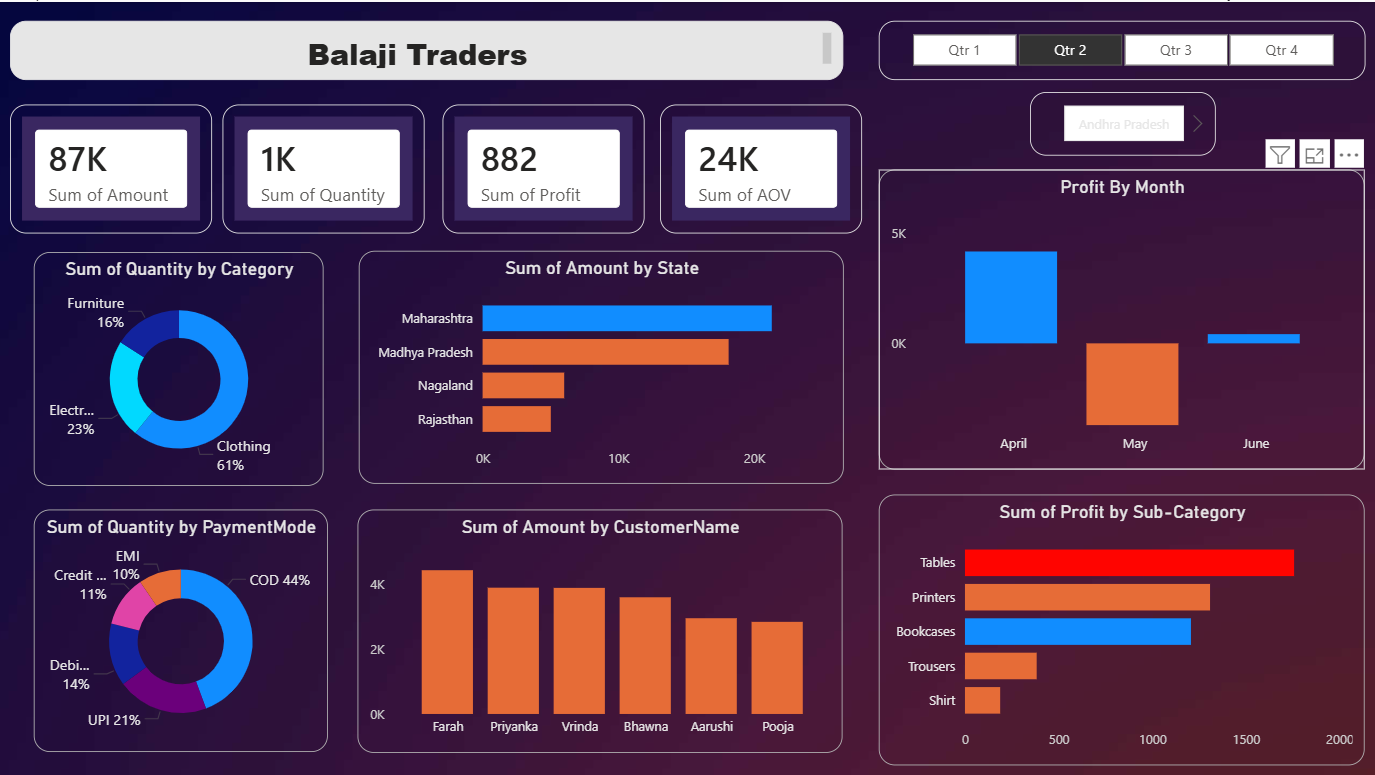

The page's visual inventory and layout, read from the dashboard file:
{"tool":"powerbi","page":{"name":"Page 1","canvas":[1280,720],"ordinal":0},"visuals":[{"type":"textbox","box":[9.6,17.8,775.3,54.9],"z":0},{"type":"columnChart","title":"Profit By Month","fields":{"Category":["Orders.Order Date.Variation.Date Hierarchy.Month"],"Y":["Sum(Details.Profit)"]},"box":[817.4,155.8,452.3,279.1],"z":1000},{"type":"barChart","fields":{"Category":["Details.Sub-Category"],"Y":["Sum(Details.Profit)"]},"box":[817.4,458.1,452.3,252.3],"z":2000},{"type":"donutChart","fields":{"Category":["Details.Category"],"Y":["Sum(Details.Quantity)"]},"box":[31.4,232.6,269.8,217.4],"z":3000},{"type":"donutChart","fields":{"Category":["Details.PaymentMode"],"Y":["Sum(Details.Quantity)"]},"box":[31.4,472.1,273.3,225.6],"z":4000},{"type":"cardVisual","fields":{"Data":["Sum(Details.Amount)"]},"box":[9.3,95.3,188.4,119.8],"z":5000},{"type":"cardVisual","fields":{"Data":["Sum(Details.AOV)"]},"box":[614,95.3,188.4,119.8],"z":6000},{"type":"cardVisual","fields":{"Data":["Sum(Details.Profit)"]},"box":[411.6,95.3,188.4,119.8],"z":7000},{"type":"cardVisual","fields":{"Data":["Sum(Details.Quantity)"]},"box":[207,95.3,188.4,119.8],"z":8000},{"type":"clusteredBarChart","fields":{"Category":["Orders.State"],"Y":["Sum(Details.Amount)"]},"box":[333.4,231.9,451.5,216.8],"z":9000},{"type":"columnChart","fields":{"Category":["Orders.CustomerName"],"Y":["Sum(Details.Amount)"]},"box":[333,472,451,226],"z":10000},{"type":"slicer","fields":{"Values":["Orders.Order Date.Variation.Date Hierarchy.Quarter"]},"box":[817.8,17.8,452.8,54.9],"z":11000},{"type":"slicer","fields":{"Values":["Orders.State"]},"box":[957.8,83.7,172.9,59],"z":12000}]}

Visuals, with their boxes in screenshot pixels (x1, y1, x2, y2), scaled from the page's 1280x720 canvas onto the 1375x775 screenshot:
textbox: pyautogui.locateOnScreen(10, 19, 843, 78)
"Profit By Month" columnChart: pyautogui.locateOnScreen(878, 168, 1364, 468)
barChart - Details.Sub-Category x Sum(Details.Profit): pyautogui.locateOnScreen(878, 493, 1364, 765)
donutChart - Details.Category x Sum(Details.Quantity): pyautogui.locateOnScreen(34, 250, 324, 484)
donutChart - Details.PaymentMode x Sum(Details.Quantity): pyautogui.locateOnScreen(34, 508, 327, 751)
cardVisual - Sum(Details.Amount): pyautogui.locateOnScreen(10, 103, 212, 232)
cardVisual - Sum(Details.AOV): pyautogui.locateOnScreen(660, 103, 862, 232)
cardVisual - Sum(Details.Profit): pyautogui.locateOnScreen(442, 103, 645, 232)
cardVisual - Sum(Details.Quantity): pyautogui.locateOnScreen(222, 103, 425, 232)
clusteredBarChart - Orders.State x Sum(Details.Amount): pyautogui.locateOnScreen(358, 250, 843, 483)
columnChart - Orders.CustomerName x Sum(Details.Amount): pyautogui.locateOnScreen(358, 508, 842, 751)
slicer - Orders.Order Date.Variation.Date Hierarchy.Quarter: pyautogui.locateOnScreen(878, 19, 1365, 78)
slicer - Orders.State: pyautogui.locateOnScreen(1029, 90, 1215, 154)
